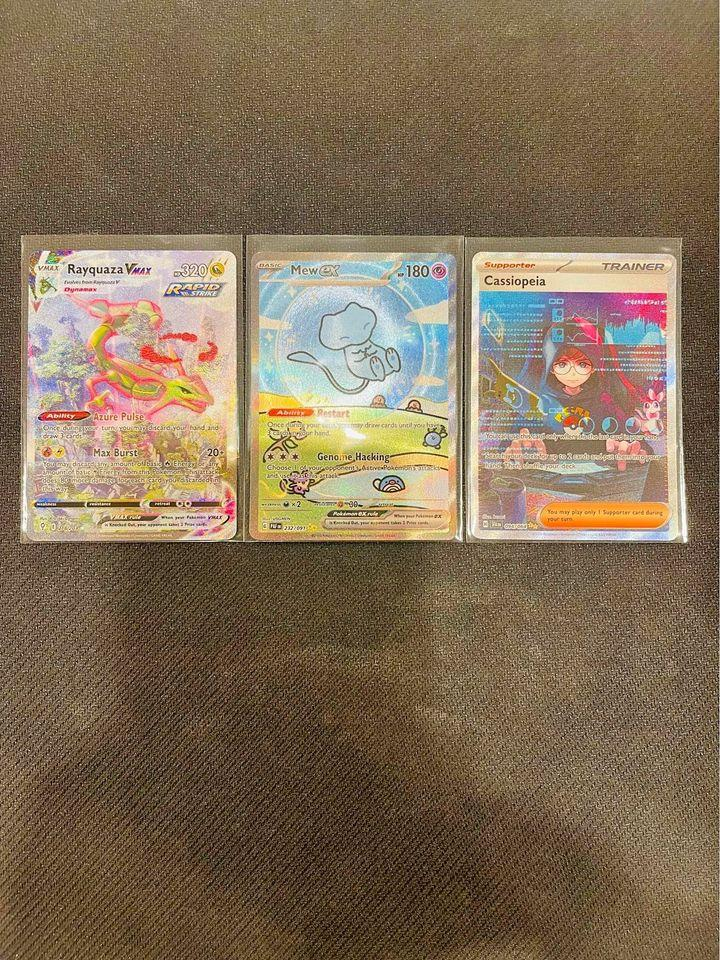card: (24, 248, 238, 542), (470, 250, 679, 542), (248, 252, 457, 541)
